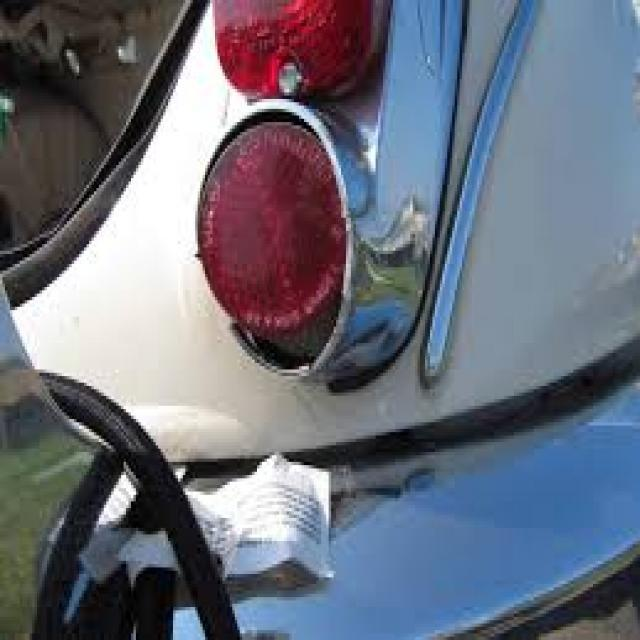damaged-tail-light: (190, 99, 372, 391)
